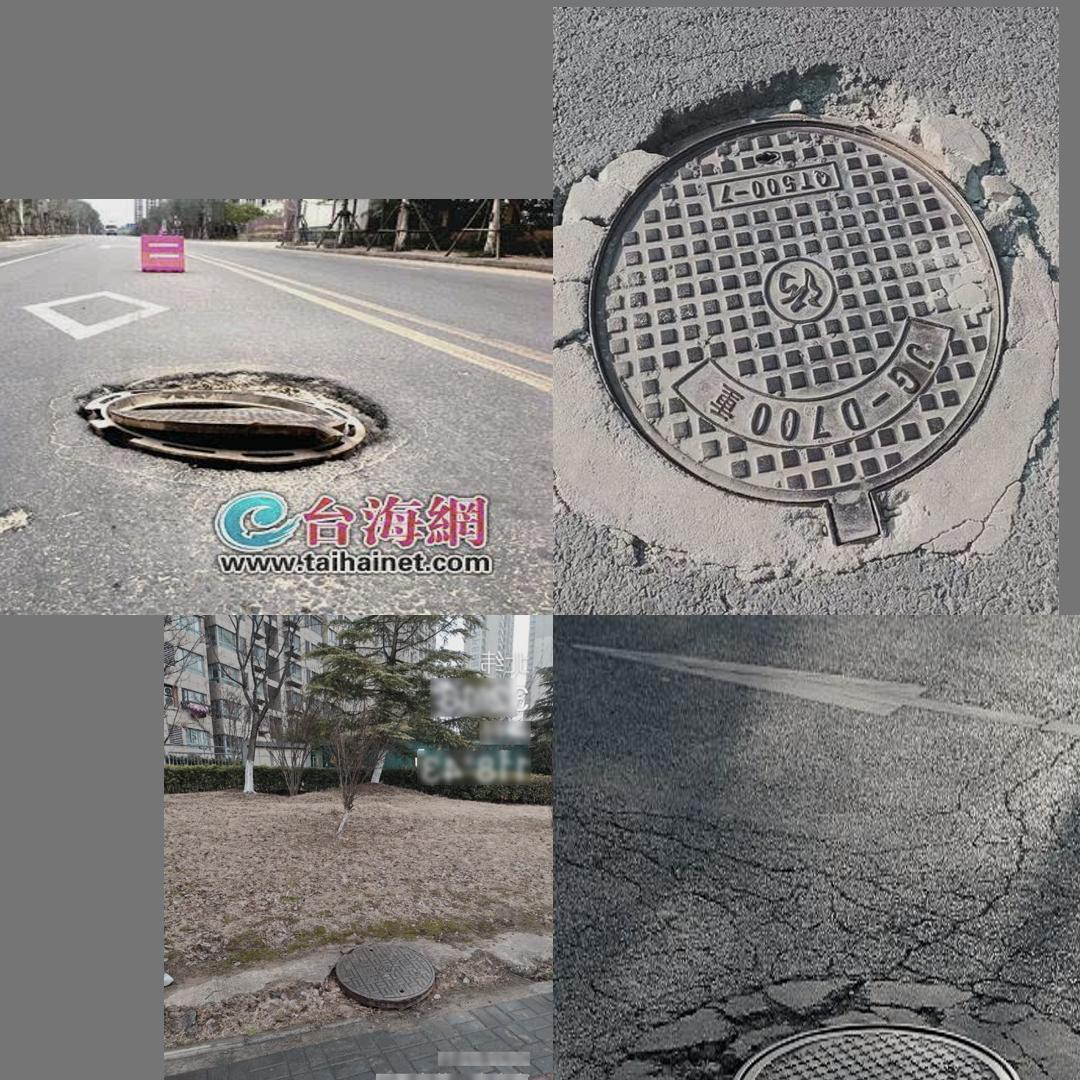circle: (568, 78, 1041, 568), (626, 936, 1080, 1080), (7, 358, 435, 495), (330, 941, 437, 1008)
